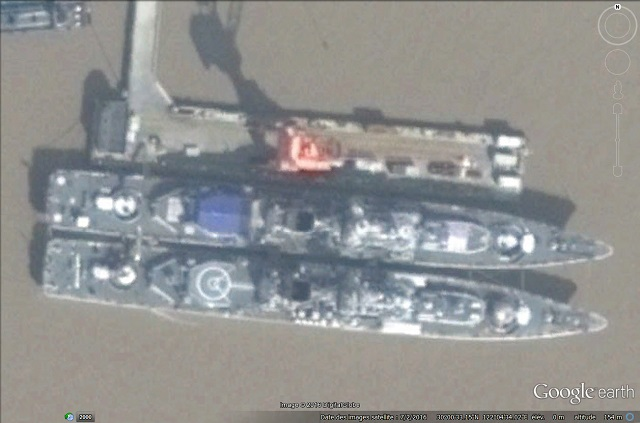ship: (43, 239, 625, 354), (46, 155, 622, 268)
